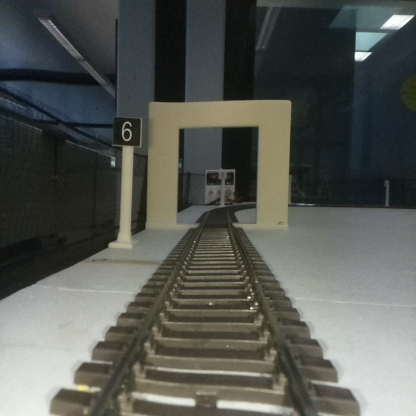black-info-6: (113, 118, 140, 245)
